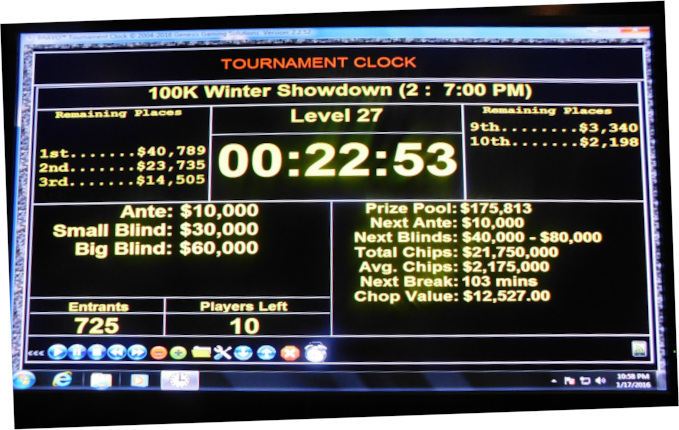PlayersLeft: (162, 295, 335, 339)
Remaining: (460, 101, 648, 204), (33, 106, 211, 204)
TournamentClock: (28, 83, 652, 338)
